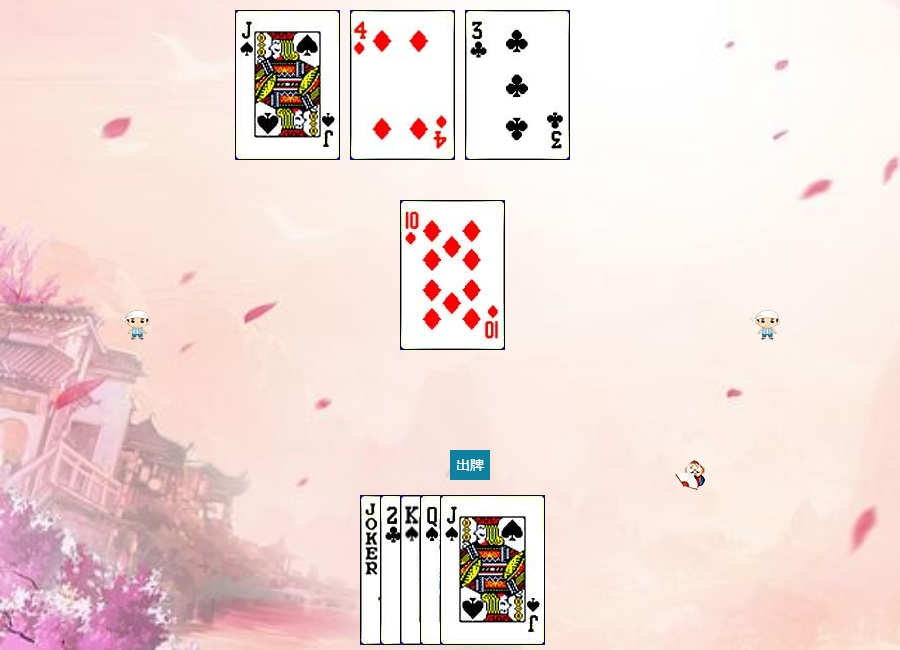10~1: (400, 200, 505, 350)
11~4: (235, 10, 340, 160), (440, 495, 545, 645)
12~4: (420, 495, 525, 645)
13~4: (400, 495, 505, 645)
15~2: (380, 495, 485, 645)
17~3: (360, 495, 465, 645)
3~2: (465, 10, 570, 160)
4~1: (350, 10, 455, 160)
